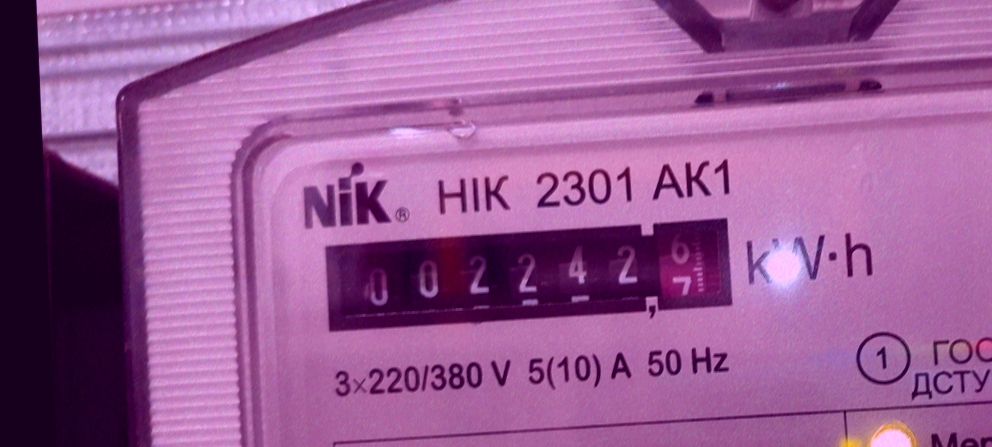0: (414, 255, 441, 298), (466, 251, 492, 295), (366, 262, 391, 307)
2: (613, 241, 640, 285), (515, 249, 540, 294)
4: (564, 241, 589, 286)
6: (668, 230, 693, 264)
7: (670, 273, 694, 296)
screen: (314, 205, 750, 346)
